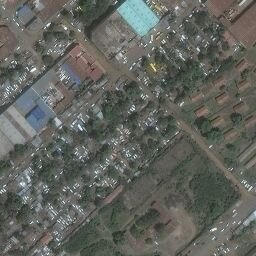tree: (3, 194, 22, 212), (122, 80, 138, 96), (194, 10, 210, 26), (197, 118, 211, 134), (15, 203, 29, 219), (111, 230, 125, 244), (206, 128, 222, 140), (43, 31, 56, 43), (107, 167, 120, 179), (184, 23, 197, 35), (100, 144, 112, 155), (231, 113, 243, 123), (42, 55, 52, 66), (156, 117, 167, 127), (34, 42, 43, 53), (127, 113, 138, 122), (154, 223, 164, 232), (147, 127, 157, 136), (95, 151, 104, 161), (198, 53, 208, 62), (14, 144, 24, 153), (154, 54, 164, 63), (225, 143, 236, 151), (174, 96, 184, 104), (56, 31, 66, 39), (81, 175, 91, 183), (51, 151, 61, 159), (94, 197, 102, 206), (123, 168, 132, 176), (221, 43, 230, 51), (95, 186, 104, 193), (128, 161, 137, 168), (143, 237, 151, 243), (147, 101, 154, 107)
